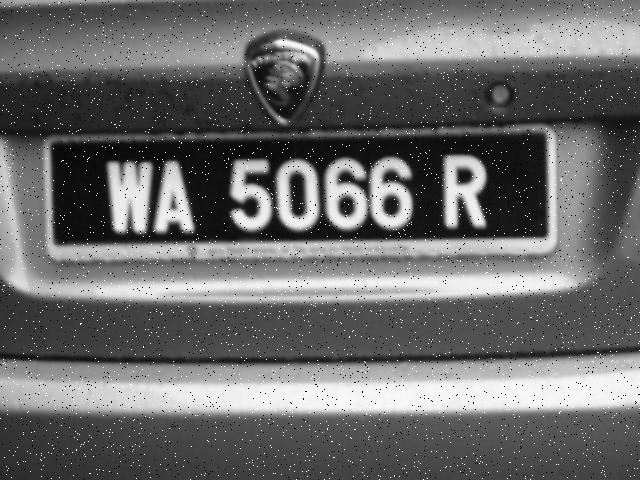License_Plate: (52, 145, 544, 241)
